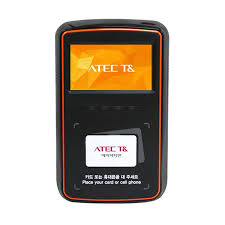terminal: (52, 17, 178, 206)
